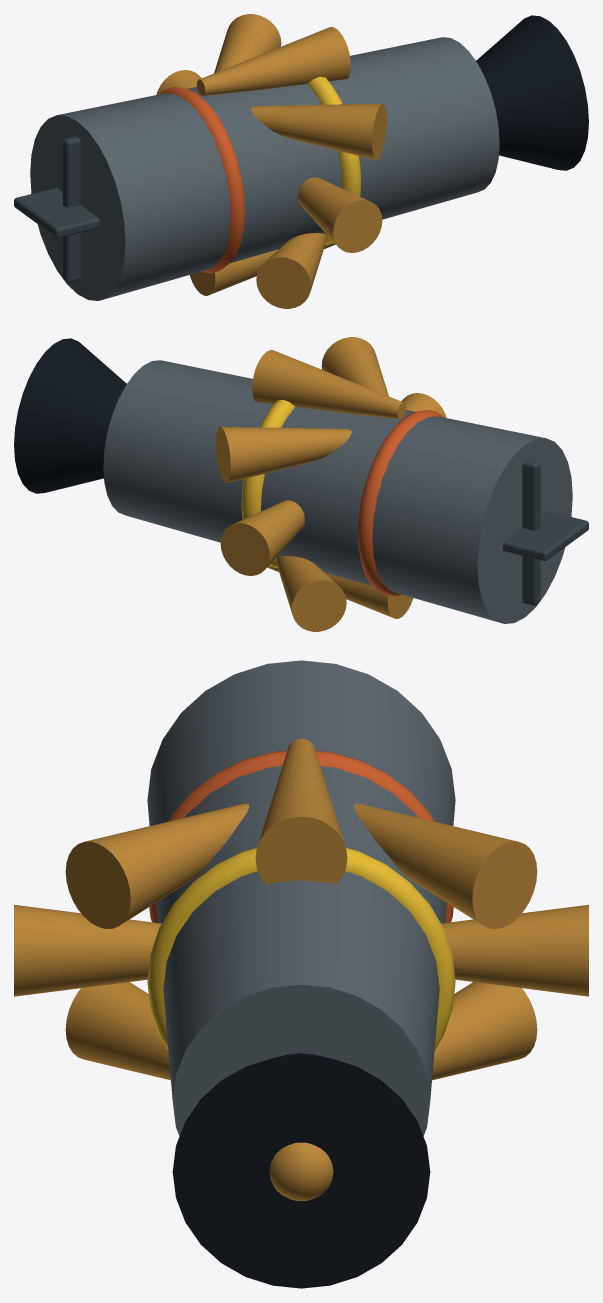
3 views of the same model, one above another, from view 1: azimuth 30°, elevation 25°; view 2: azimuth 150°, elevation 25°; view 3: azimuth 270°, elevation 25° (orthographic). The views are drawn at different scales.
Size of the model in its own units: 4.26 by 1.8 by 2.5.
